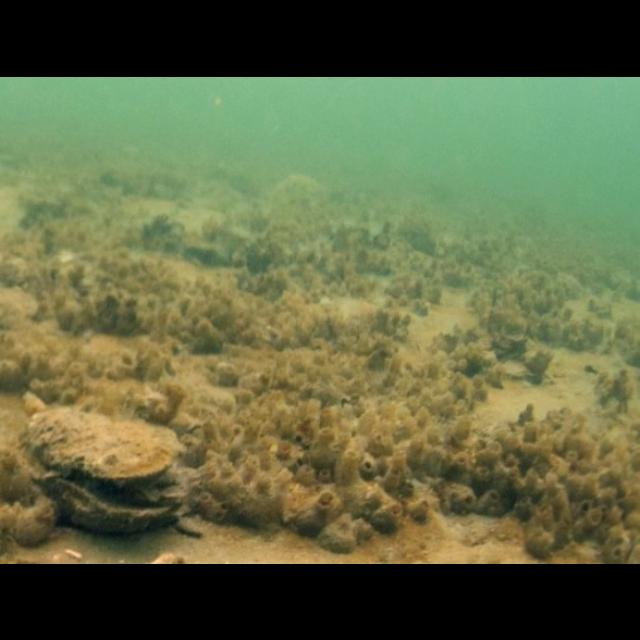Oyster-Open: (19, 404, 190, 538)
